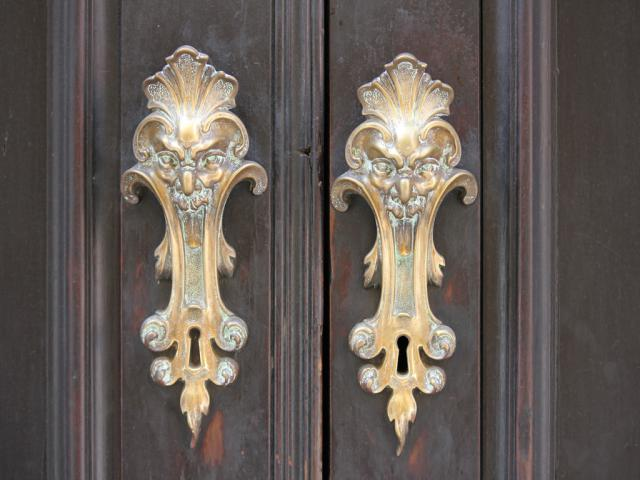Door-handle: (328, 48, 480, 461), (117, 43, 270, 450)
